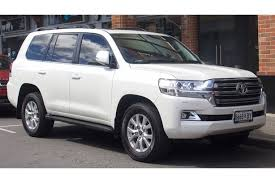Toyota: (14, 29, 267, 141)
